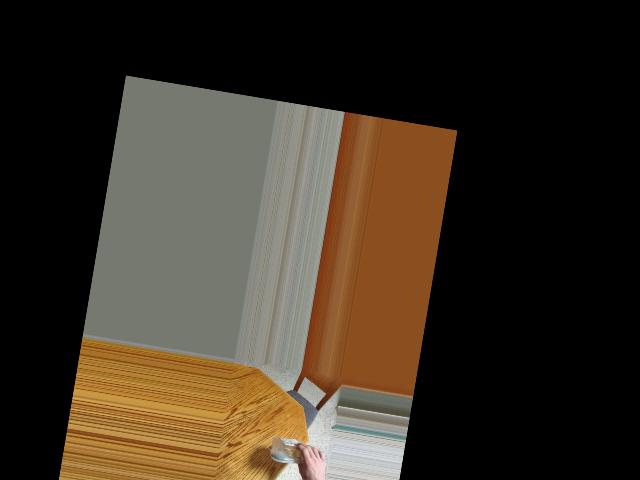cheese: (263, 428, 315, 476)
